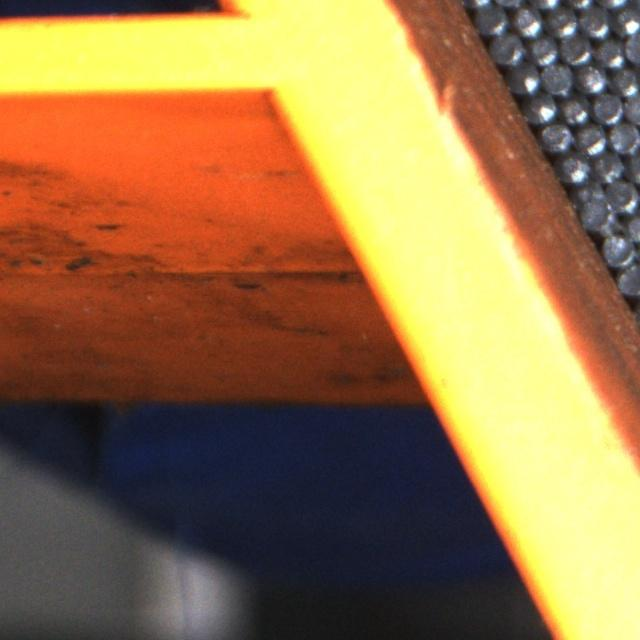tool: (491, 30, 525, 64), (591, 90, 624, 124), (578, 4, 612, 37), (545, 4, 578, 38), (601, 232, 635, 265), (474, 1, 508, 34), (559, 32, 592, 65), (573, 121, 606, 154), (559, 91, 591, 125), (590, 148, 624, 180), (608, 120, 640, 153), (511, 4, 544, 36), (608, 179, 640, 212), (539, 120, 572, 152), (541, 60, 573, 93), (524, 91, 557, 123), (509, 59, 541, 92), (526, 33, 558, 65), (558, 150, 590, 182), (578, 196, 610, 228), (576, 60, 607, 93), (609, 64, 640, 97), (592, 36, 624, 67), (577, 177, 608, 206), (612, 4, 640, 36), (617, 260, 640, 294), (622, 210, 640, 242), (625, 92, 640, 125), (625, 32, 640, 64), (626, 150, 640, 183)
